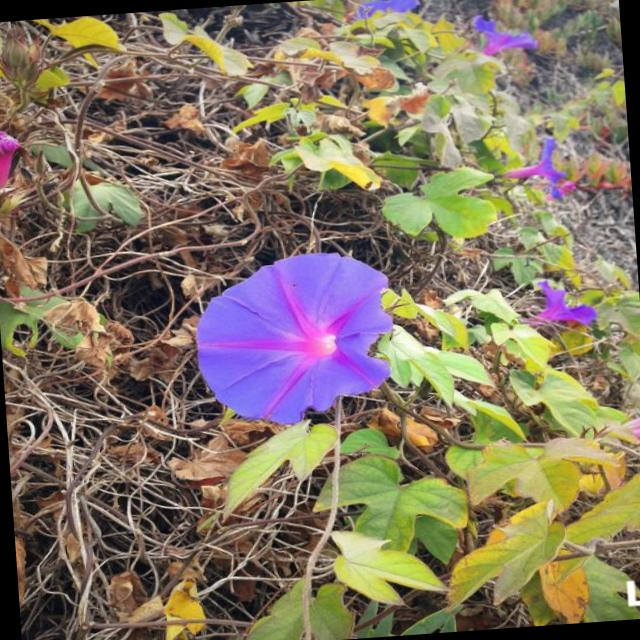ipomoea: (185, 246, 404, 434)
